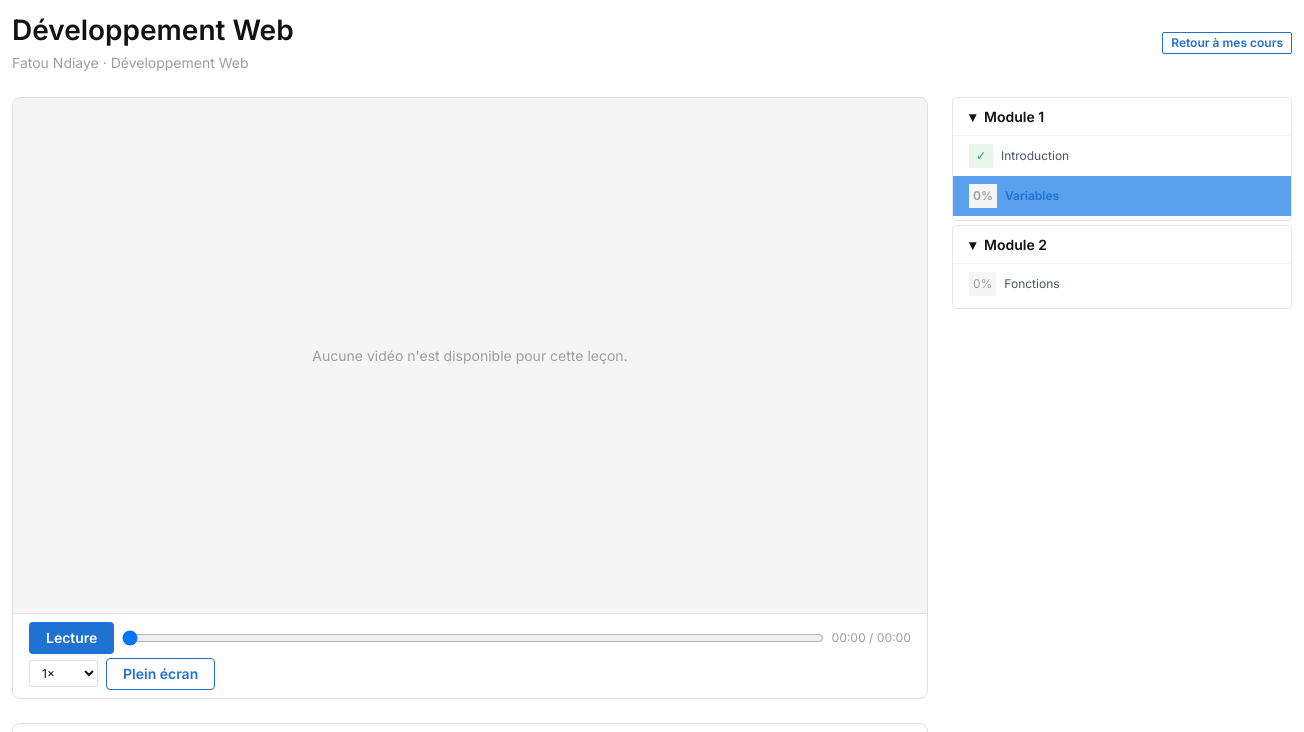
Test: CoursePlayerComponent › should toggle module sections in the sidebar
The image size is (1304, 732).
Expected: the number of buttons with class "course-player__lesson-item" is 3, [953,136,1291,176]; [953,176,1291,216]; [953,264,1291,304]
Click the button with class "course-player__module-toggle" showing "▾ Module 1" at {"x": 1014, "y": 117}, box [953,98,1291,135]
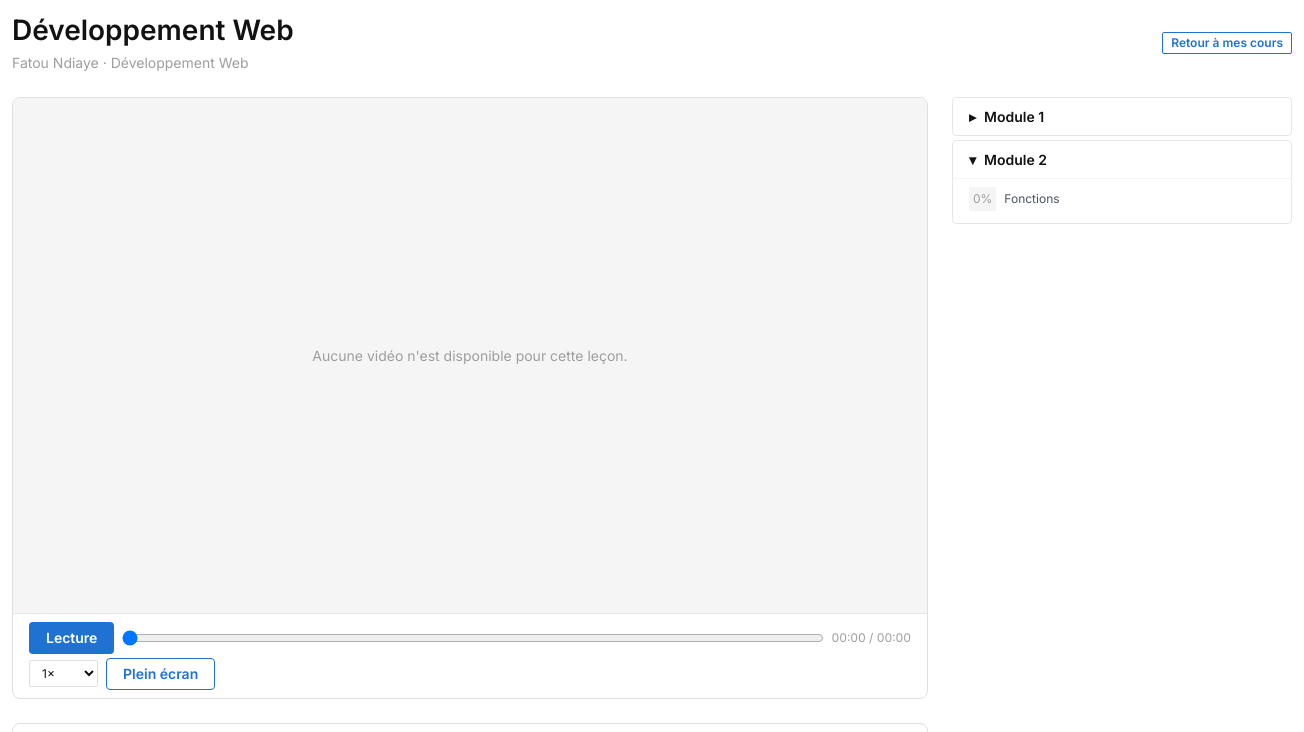
Result: the number of buttons with class "course-player__lesson-item" is 1 at [953,179,1291,219]
